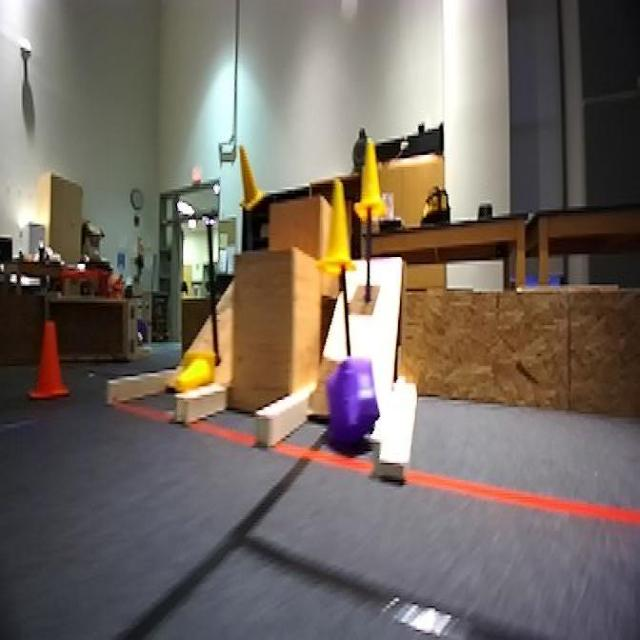frc_cone: (322, 180, 356, 272), (357, 144, 389, 220), (236, 146, 265, 216), (174, 349, 217, 395)
frc_cube: (318, 356, 373, 439)
